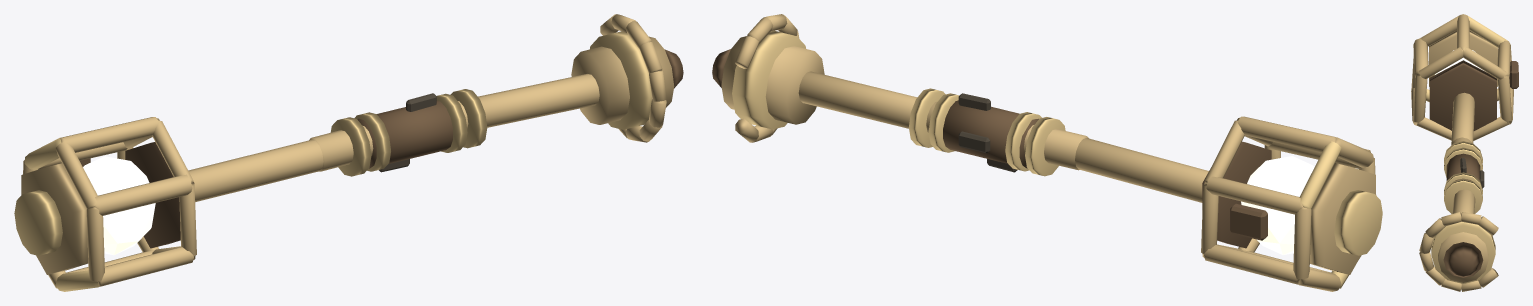
File: lantern_staff_01.glb
The picture shows the model from 3 angles, left to right: view 1: azimuth 30°, elevation 25°; view 2: azimuth 150°, elevation 25°; view 3: azimuth 270°, elevation 25°; orthographic projection. The views are drawn at different scales.
Visible parts, largest first — view 1: PoleSegment03, PoleSegment01, LanternUpperHexCollar, SparkGlassFacetedCore, FerruleWeightedCore, DeepBronzeGripSleeve, FerruleInnerWeight, LanternCrownFinialBase, LanternLowerHexCollar, LanternCagePost03, LanternCagePost04, LanternCagePost02 (+14 smaller); view 2: PoleSegment03, PoleSegment01, FerruleWeightedCore, LanternUpperHexCollar, FerruleInnerWeight, SparkGlassFacetedCore, DeepBronzeGripSleeve, LanternCrownFinialBase, LanternLowerHexCollar, LanternCagePost01, LanternCagePost06, LanternCagePost02 (+15 smaller); view 3: LanternLowerHexCollar, FerruleInnerWeight, LanternUpperHexCollar, FerruleBluntNose, PoleSegment03, FerruleWeightedCore, GripBrassBand01, DeepBronzeGripSleeve, LanternLowerRail02, LanternLowerRail03, LanternLowerRail01, LanternLowerRail06 (+28 smaller).
Boxes of the visible parts, x1,y1,x2,y2 form: PoleSegment03: (188,140,323,201); PoleSegment01: (478,74,599,127); LanternUpperHexCollar: (21,163,88,274); SparkGlassFacetedCore: (83,156,155,255); FerruleWeightedCore: (571,36,674,124); DeepBronzeGripSleeve: (357,100,452,168); FerruleInnerWeight: (590,31,651,129); LanternCrownFinialBase: (14,190,62,255); LanternLowerHexCollar: (125,142,194,248); LanternCagePost03: (95,174,192,215); LanternCagePost04: (97,247,193,286); LanternCagePost02: (60,117,158,152); PoleSegment03: (1075,138,1208,202); PoleSegment01: (798,71,916,128); FerruleWeightedCore: (721,36,824,124); LanternUpperHexCollar: (1310,163,1375,274); FerruleInnerWeight: (732,30,805,129); SparkGlassFacetedCore: (1241,156,1314,254); DeepBronzeGripSleeve: (943,100,1038,168); LanternCrownFinialBase: (1334,190,1382,255); LanternLowerHexCollar: (1202,141,1271,248); LanternCagePost01: (1206,176,1303,214); LanternCagePost06: (1204,244,1300,284); LanternCagePost02: (1237,116,1336,152); LanternLowerHexCollar: (1429,60,1496,130); FerruleInnerWeight: (1431,221,1495,283); LanternUpperHexCollar: (1429,30,1497,86); FerruleBluntNose: (1443,242,1483,277); PoleSegment03: (1451,92,1474,143); FerruleWeightedCore: (1438,232,1488,282); GripBrassBand01: (1444,179,1482,213); DeepBronzeGripSleeve: (1446,153,1480,184); LanternLowerRail02: (1419,47,1463,78); LanternLowerRail03: (1413,75,1427,122); LanternLowerRail01: (1463,47,1506,79); LanternLowerRail06: (1497,76,1512,121).
Size of the model in its own units: 1.1 by 0.2501 by 0.238.
